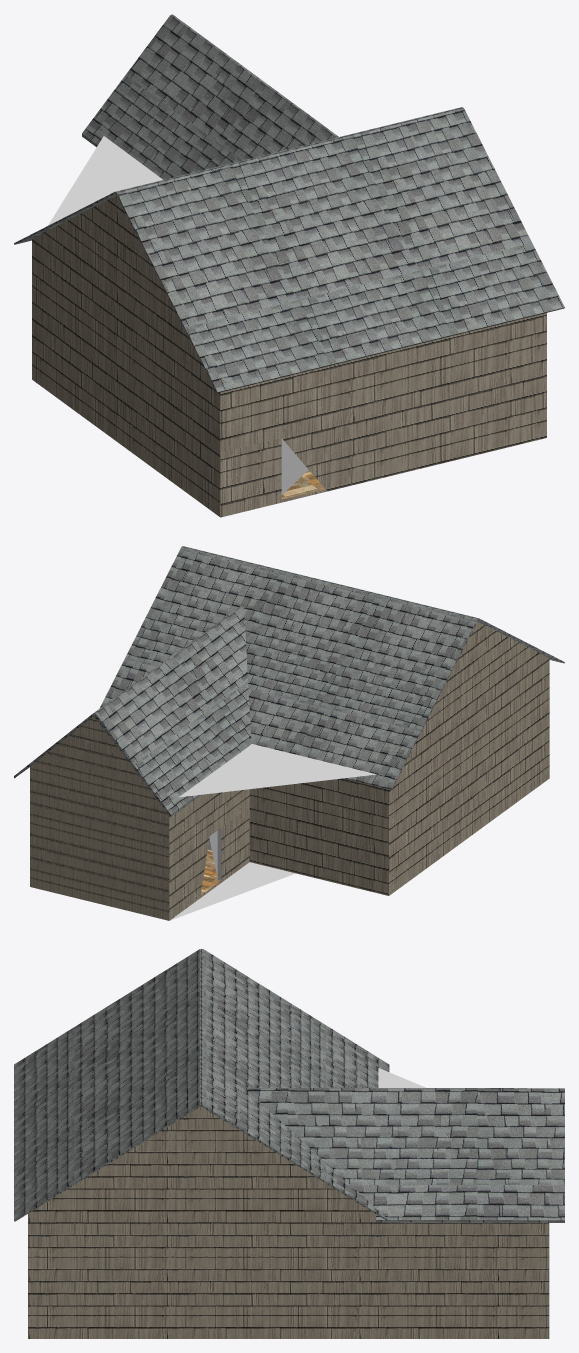
File: house textured extra goemetry.fbx
3 renders of one model, top to bottom at view 1: azimuth 30°, elevation 25°; view 2: azimuth 150°, elevation 25°; view 3: azimuth 270°, elevation 25°, orthographic. The views are drawn at different scales.
Visible parts, largest first — view 1: Cube; view 2: Cube; view 3: Cube.
Boxes of the visible parts, <box> form: Cube: <box>14,14,564,517</box>; Cube: <box>14,546,564,920</box>; Cube: <box>14,949,564,1338</box>.
Bounding box in the file's own units: 2340 × 1665 × 3488.
